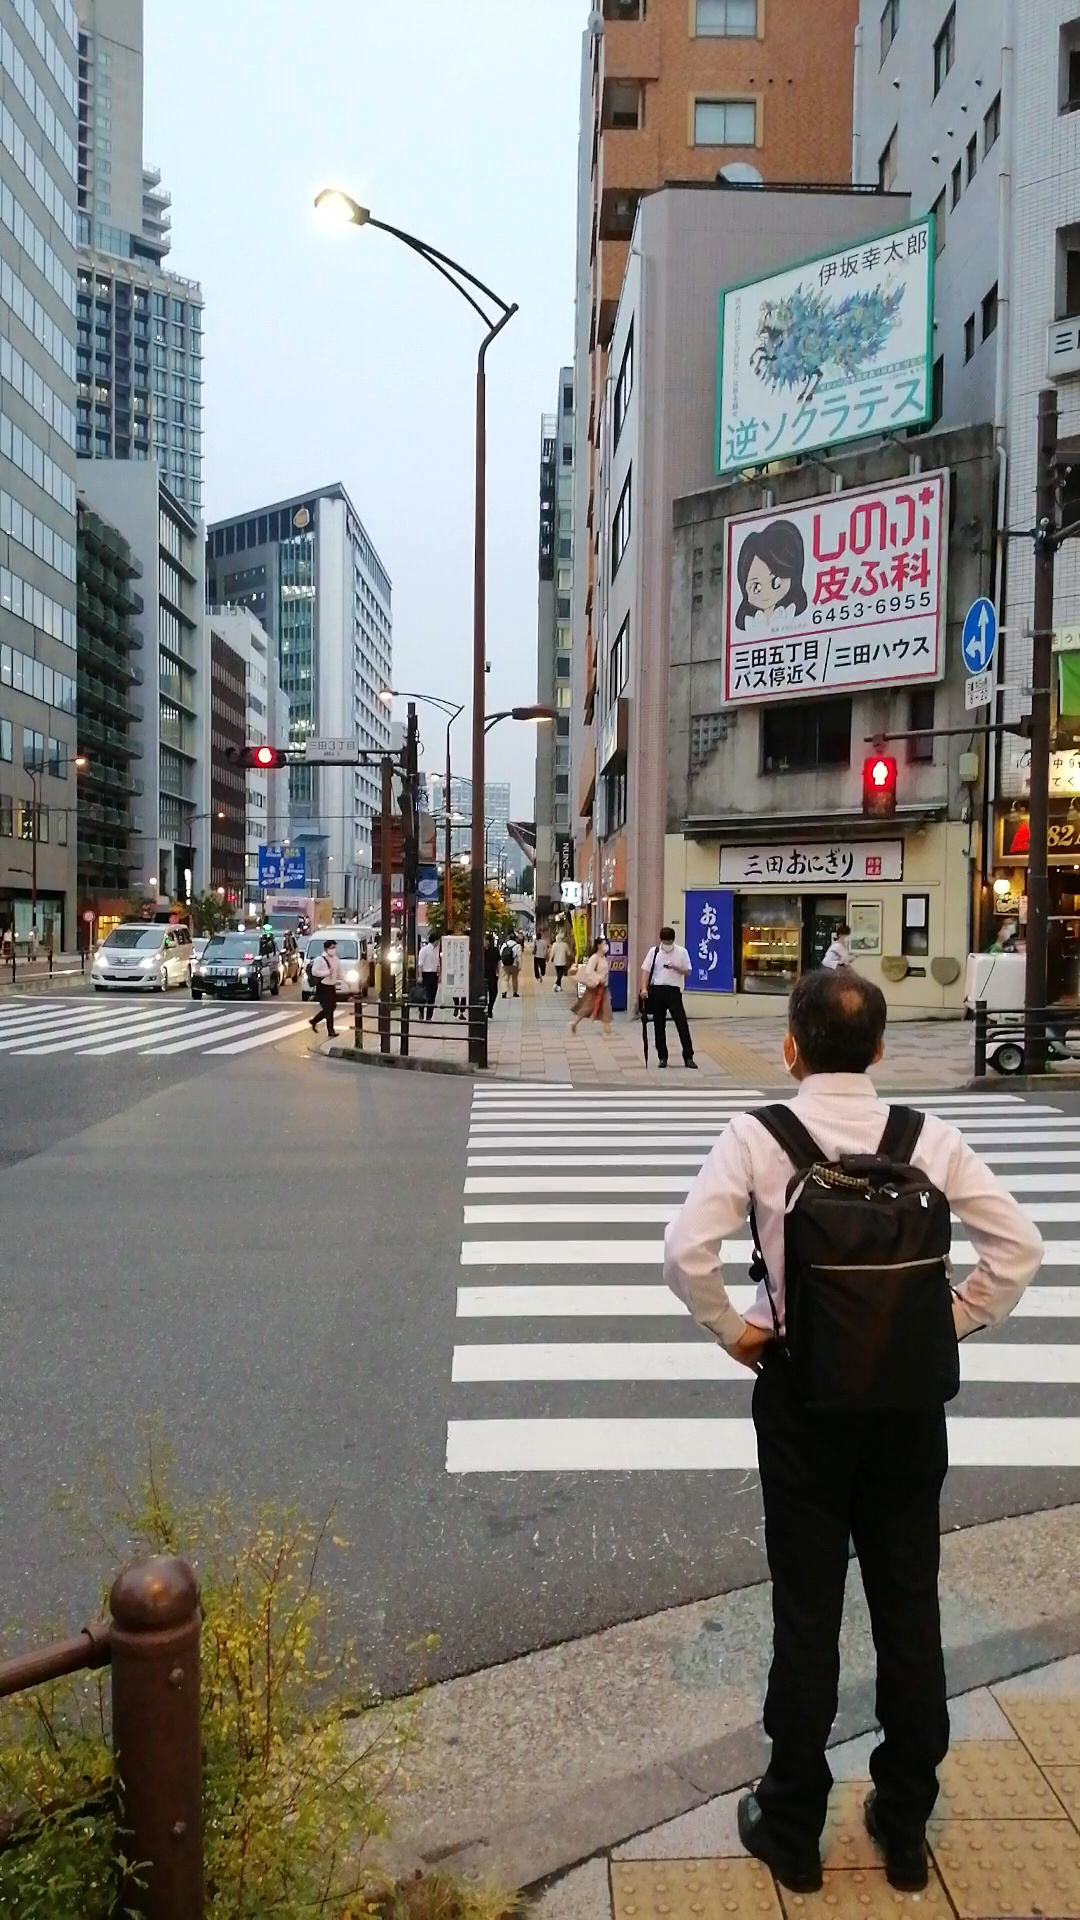red: (862, 756, 895, 822)
